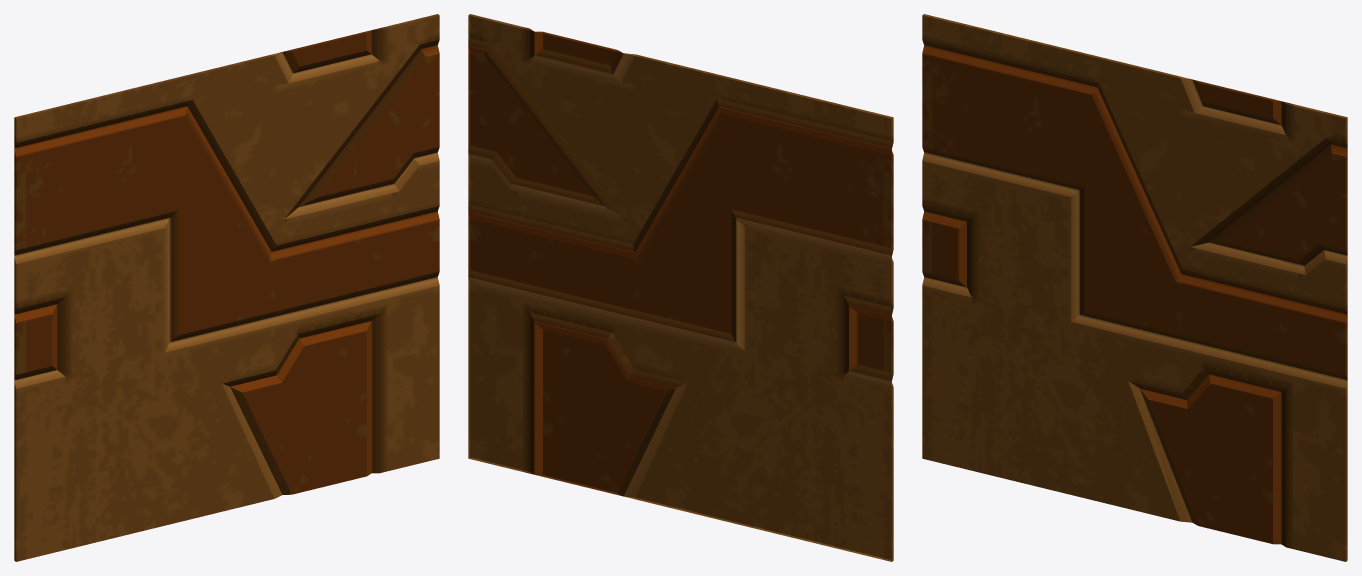
Rendered from exec2_1.fbx.
3 views of the same model, side by side, from view 1: azimuth 30°, elevation 25°; view 2: azimuth 150°, elevation 25°; view 3: azimuth 330°, elevation 25° (orthographic).
Visible parts, largest first — view 1: exec2_1; view 2: exec2_1; view 3: exec2_1.
Part boxes in pixels (x1,y1,x2,y2): exec2_1: (14,14,439,561); exec2_1: (468,14,893,561); exec2_1: (922,14,1347,561).
Bounding box in the file's own units: 256 × 256 × 2.
